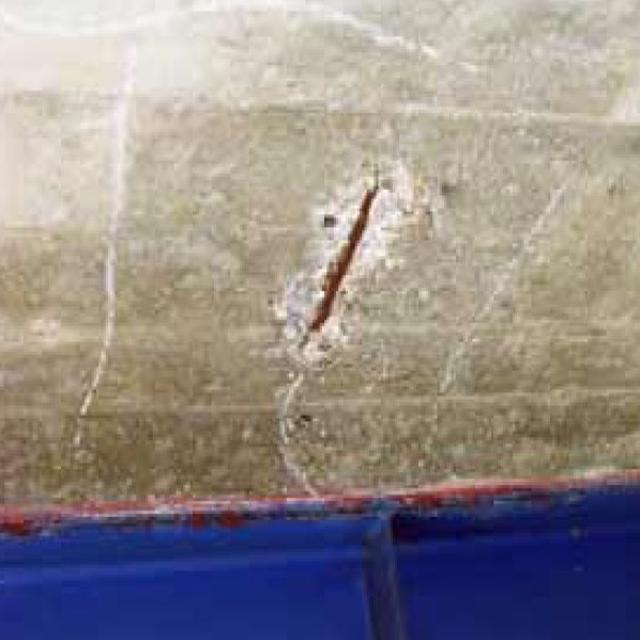spalling: (253, 156, 436, 383)
